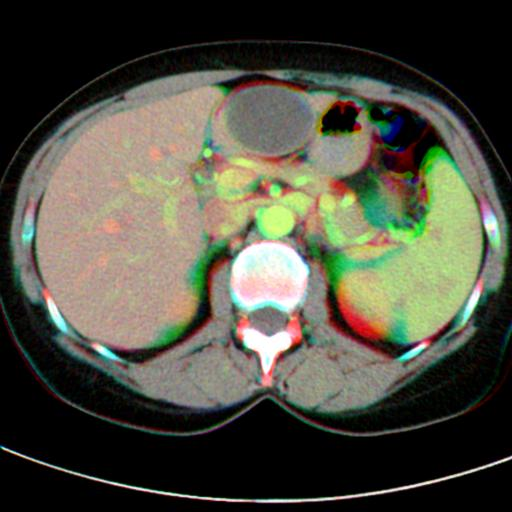Cyst: (223, 84, 313, 157)
